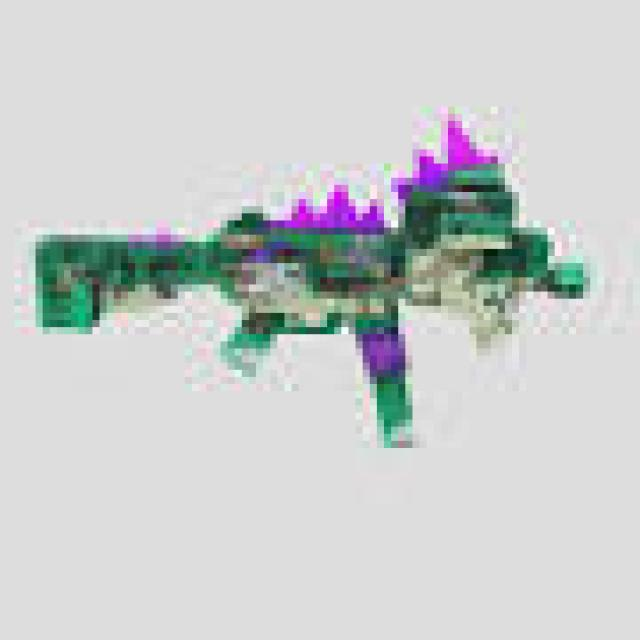Gun: (40, 130, 614, 428)
